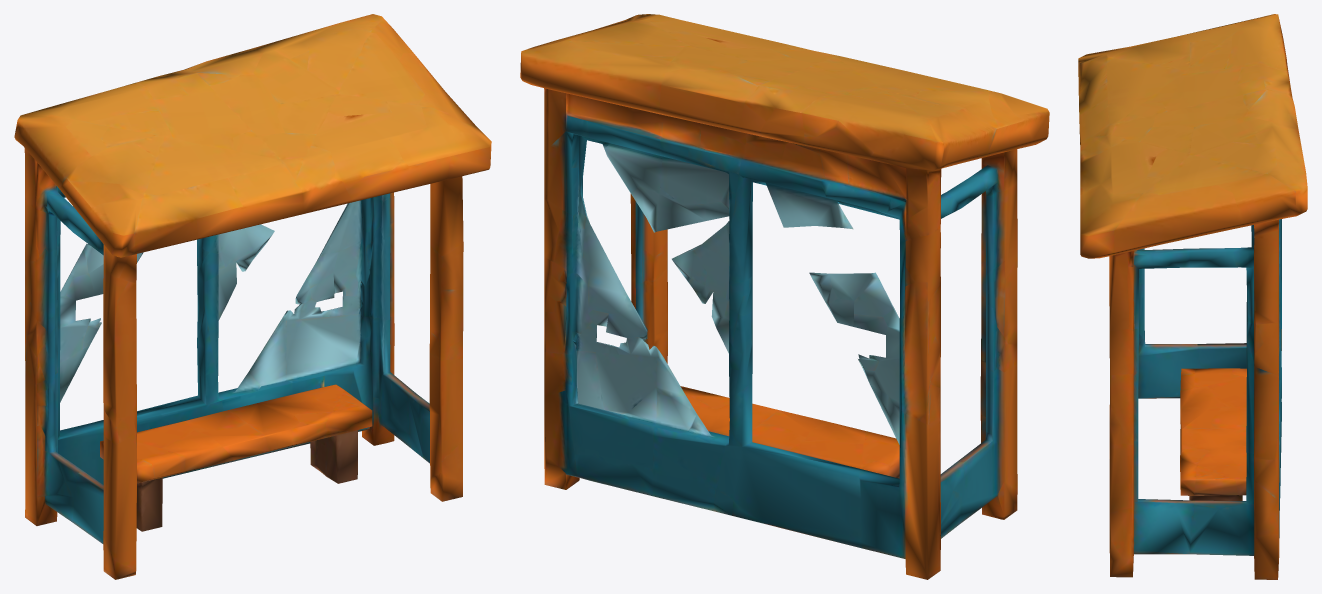
Rendered from wiata.glb.
The picture shows the model from 3 angles, left to right: view 1: azimuth 30°, elevation 25°; view 2: azimuth 150°, elevation 25°; view 3: azimuth 270°, elevation 25°; orthographic projection. The views are drawn at different scales.
Parts seen in each view (by area): view 1: tripo_node_16691754-97a5-4577-bb62-a24aa94fb1ea; view 2: tripo_node_16691754-97a5-4577-bb62-a24aa94fb1ea; view 3: tripo_node_16691754-97a5-4577-bb62-a24aa94fb1ea.
Part boxes in pixels (box(x1,y1,x2,y2)): tripo_node_16691754-97a5-4577-bb62-a24aa94fb1ea: box(14, 14, 491, 579); tripo_node_16691754-97a5-4577-bb62-a24aa94fb1ea: box(520, 14, 1049, 579); tripo_node_16691754-97a5-4577-bb62-a24aa94fb1ea: box(1078, 14, 1307, 579).
Bounding box in the file's own units: 0.9445 × 0.9796 × 0.5086.
1 material, 1 textured.
